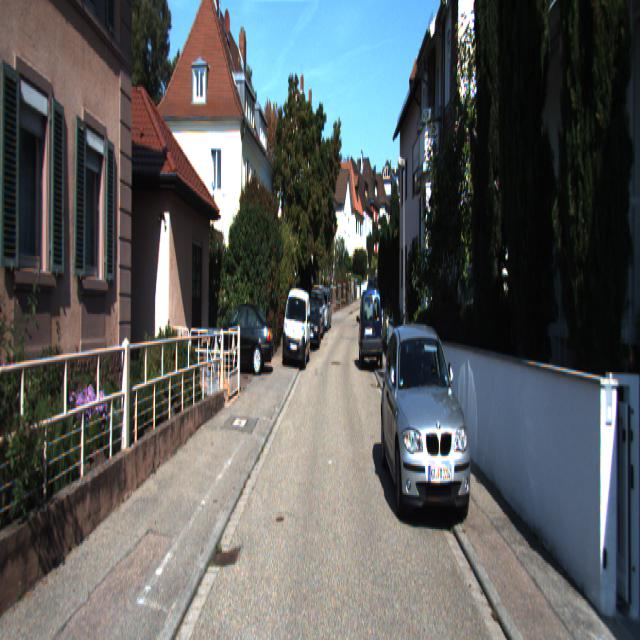Car: (381, 315, 474, 533), (206, 298, 274, 376), (280, 283, 311, 367), (357, 286, 385, 369), (302, 299, 322, 350)
